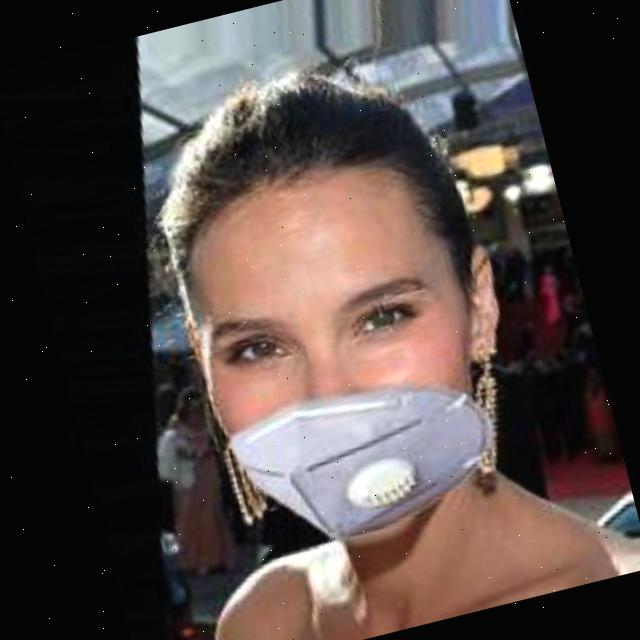suspicion: (94, 44, 568, 600)
